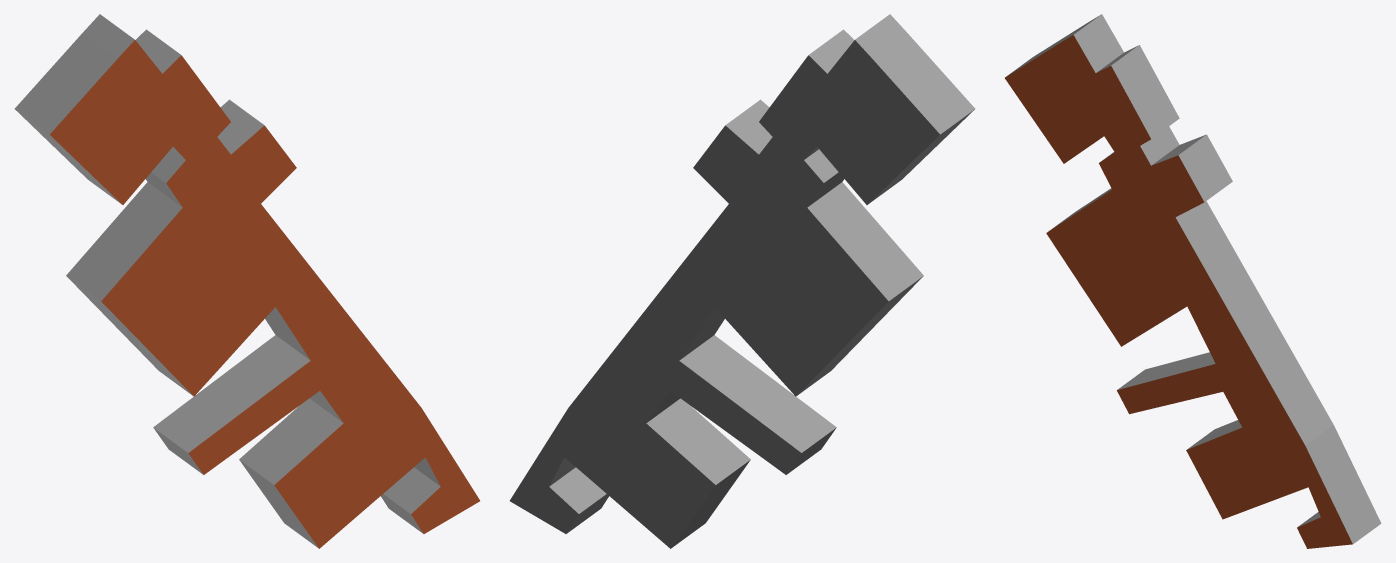
The model's file is construction_2292_assumed_A_Casa_h6m.obj.
3 renders of one model, left to right at view 1: azimuth 30°, elevation 25°; view 2: azimuth 150°, elevation 25°; view 3: azimuth 330°, elevation 25°, orthographic. The views are drawn at different scales.
Parts seen in each view (by area): view 1: construction_2292_assumed_A_Casa; view 2: construction_2292_assumed_A_Casa; view 3: construction_2292_assumed_A_Casa.
Part boxes in pixels (<box>): construction_2292_assumed_A_Casa: <box>14,14,479,548</box>; construction_2292_assumed_A_Casa: <box>510,14,975,548</box>; construction_2292_assumed_A_Casa: <box>1005,14,1381,548</box>.
Bounding box in the file's own units: 42.4 × 53.14 × 6.
